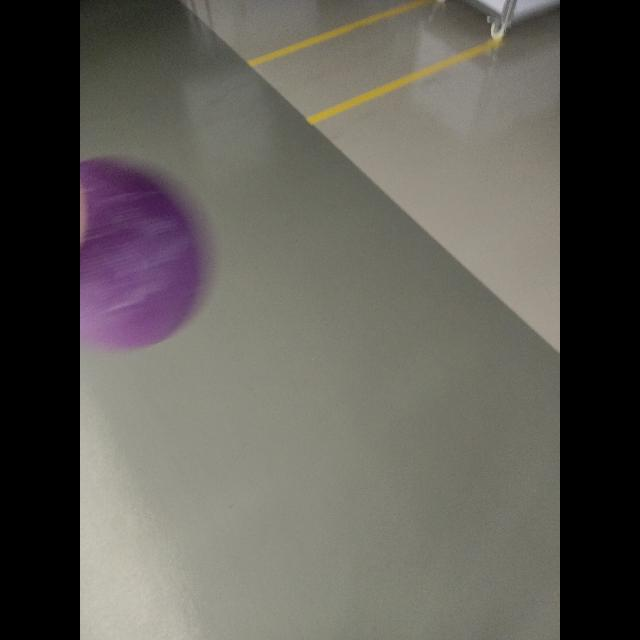P: (80, 158, 204, 352)
